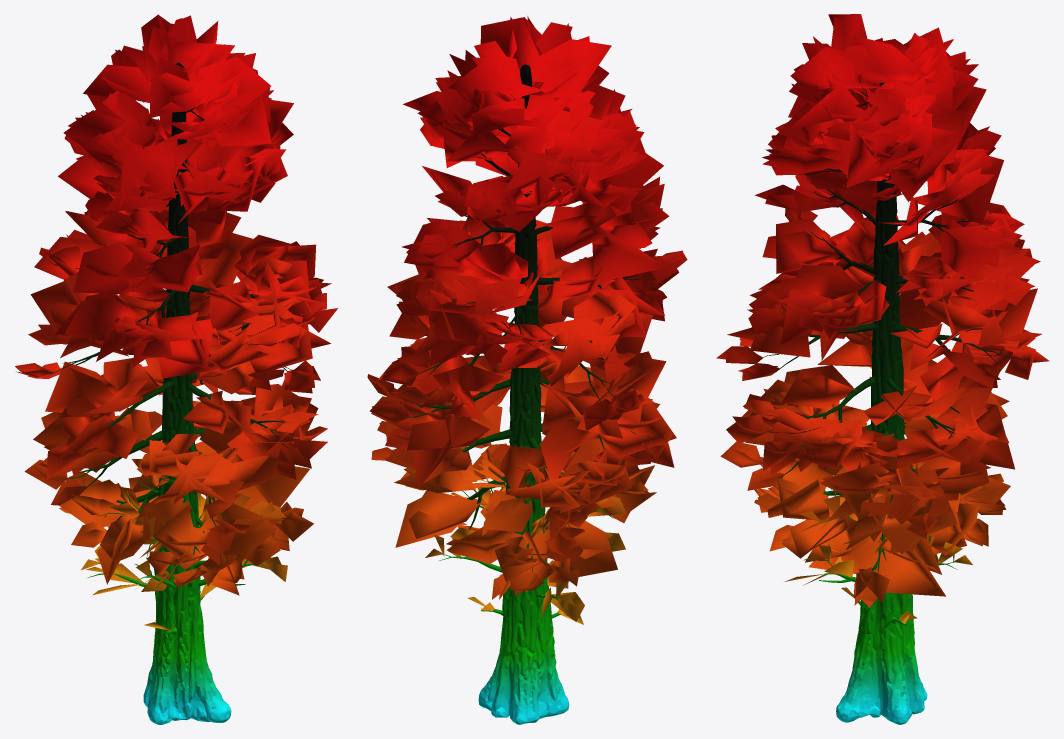
File: Sequoia3.fbx
The picture shows the model from 3 angles, left to right: view 1: azimuth 30°, elevation 25°; view 2: azimuth 150°, elevation 25°; view 3: azimuth 270°, elevation 25°; orthographic projection.
Parts seen in each view (by area): view 1: Sequoia3_LOD0; view 2: Sequoia3_LOD0; view 3: Sequoia3_LOD0.
Boxes of the visible parts, <box> form: Sequoia3_LOD0: <box>15,14,337,724</box>; Sequoia3_LOD0: <box>367,16,687,724</box>; Sequoia3_LOD0: <box>716,14,1049,724</box>.
Size of what is drawn, in the model's own units: 1621 by 3828 by 1687.
